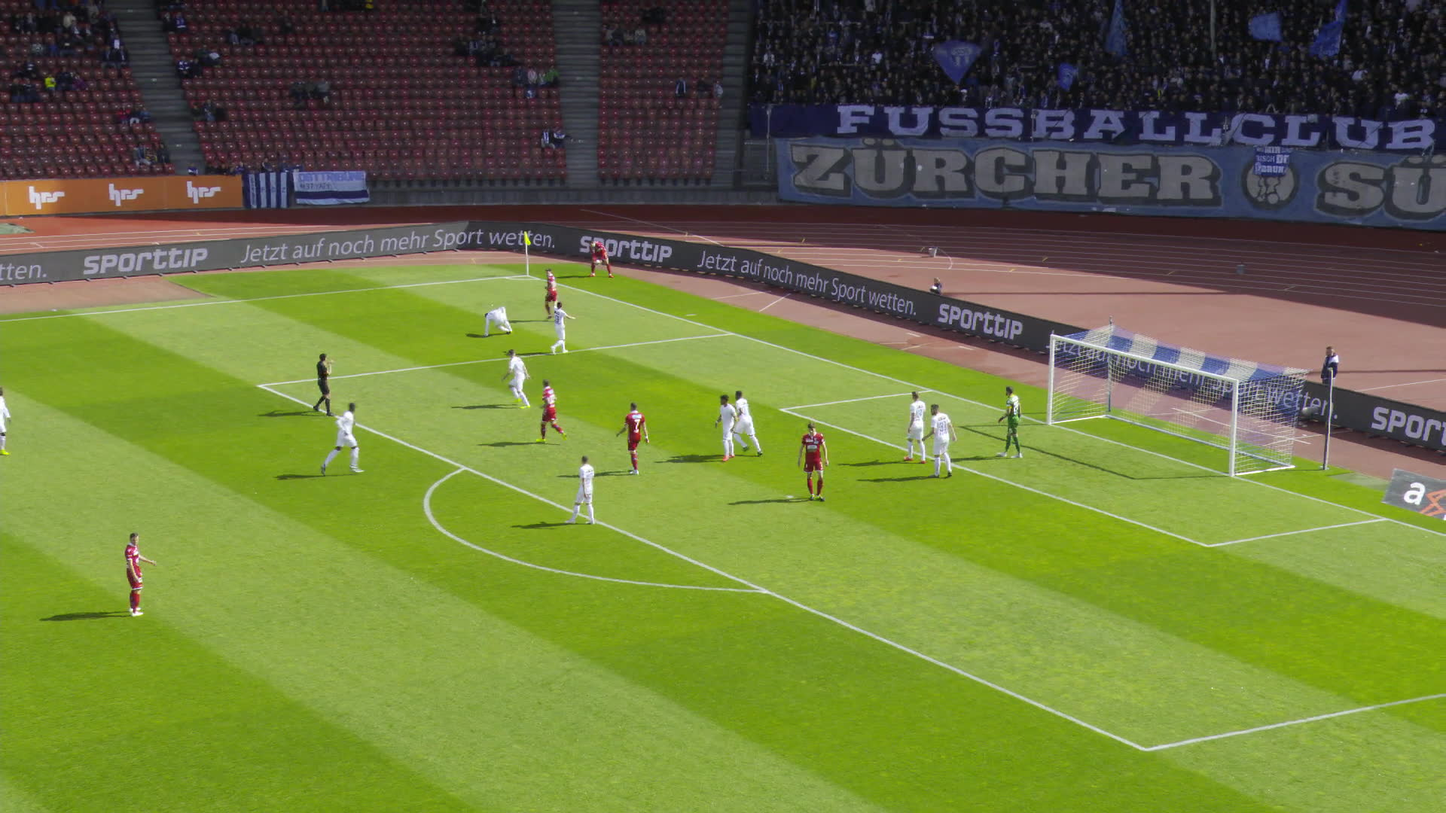ball: (596, 257, 609, 266)
player: (319, 402, 365, 477), (123, 531, 155, 617), (799, 418, 829, 501), (932, 400, 962, 476), (563, 456, 595, 526), (620, 402, 649, 477), (535, 379, 566, 444), (995, 385, 1022, 459), (733, 390, 762, 455), (712, 393, 737, 461), (902, 391, 925, 462), (505, 343, 527, 409), (547, 294, 572, 352), (587, 240, 615, 279), (481, 304, 513, 336), (541, 267, 560, 319), (0, 385, 10, 452)
referee: (314, 351, 333, 416)
